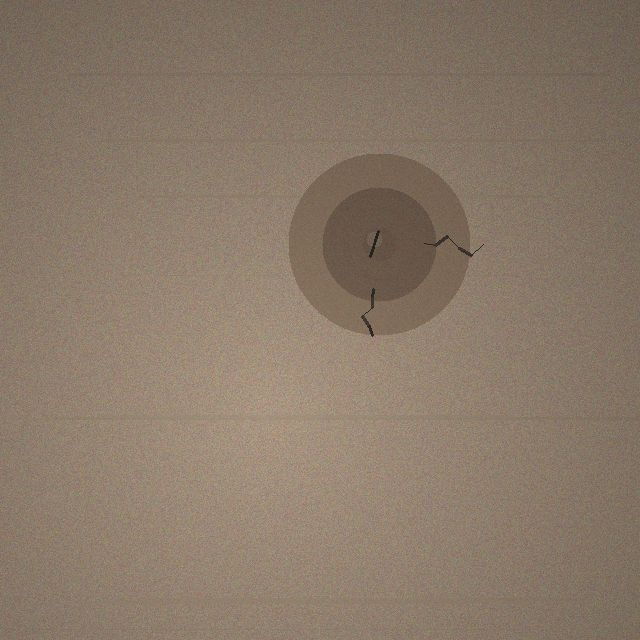crack: (288, 153, 470, 335)
